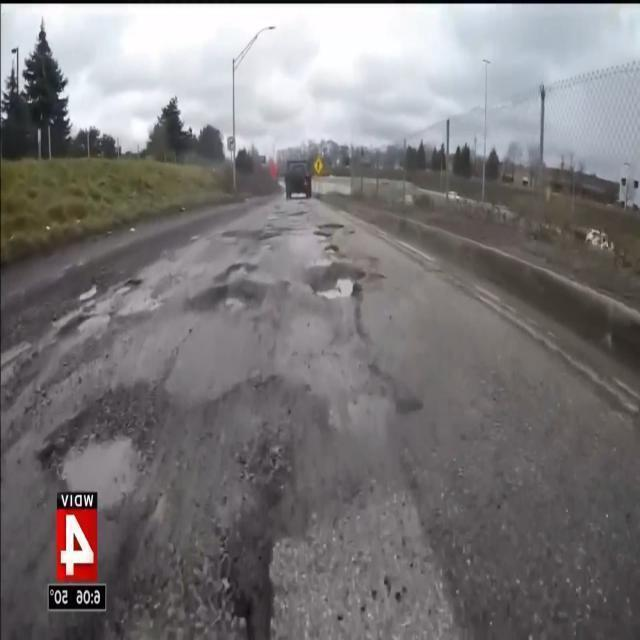Pothole: (54, 404, 160, 514), (215, 281, 261, 318), (315, 268, 360, 298)
